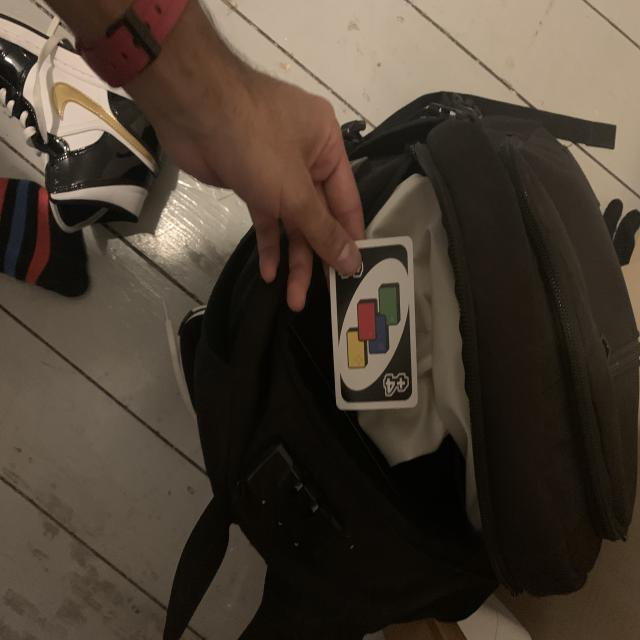lcolor-400: (379, 372, 415, 402)
